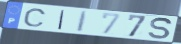7: (100, 12, 123, 36), (127, 14, 148, 38)
C: (23, 8, 48, 28)
I: (76, 10, 90, 33), (57, 9, 67, 31)
S: (147, 17, 173, 41)
